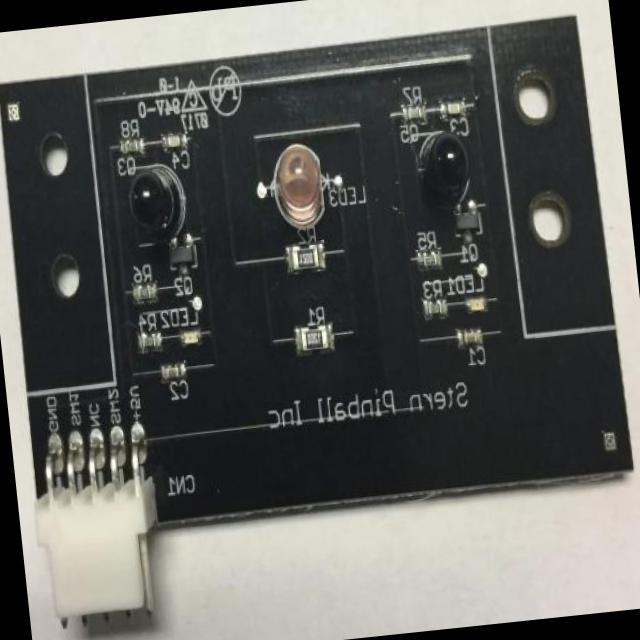LED: (270, 142, 330, 236), (125, 154, 187, 240), (416, 118, 476, 205), (464, 289, 492, 321), (180, 318, 201, 350)
capacitor: (458, 326, 484, 349), (162, 362, 185, 386), (163, 130, 185, 154), (444, 91, 465, 114), (410, 104, 426, 125)
connector: (25, 414, 164, 628)
resistor: (297, 317, 327, 356), (419, 242, 446, 276), (295, 247, 324, 275), (133, 274, 158, 306), (144, 330, 164, 352), (426, 296, 442, 321), (123, 137, 142, 156)
transistor: (166, 235, 200, 286), (454, 202, 483, 252)
